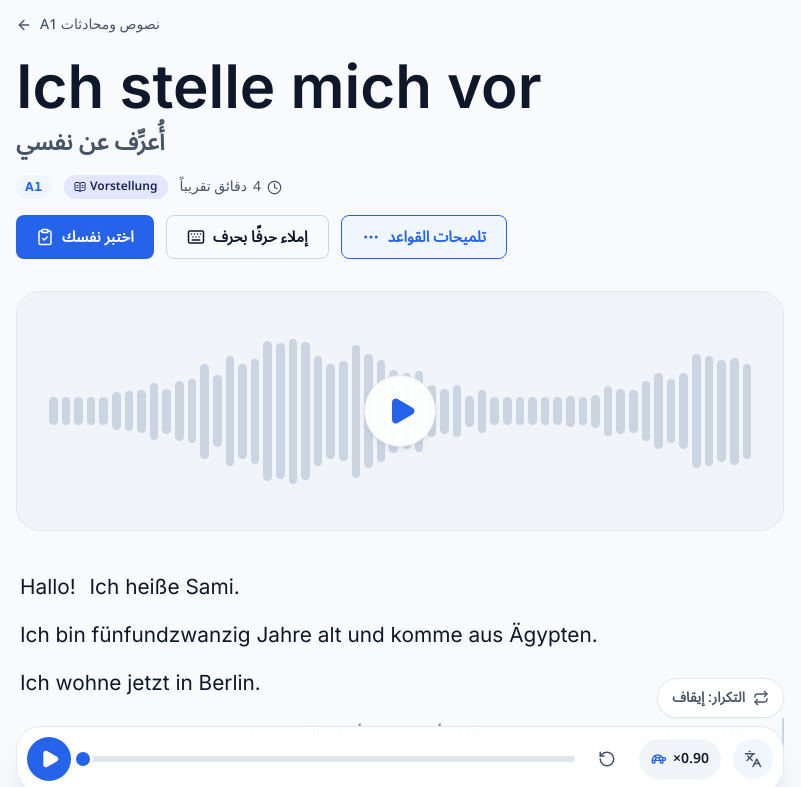
Test case: StoryPage — reading text › reads the first sentence in German when play is pressed, then offers pause
Click the button named "تشغيل". click: [49, 759]
box: 27,737 -> 71,781
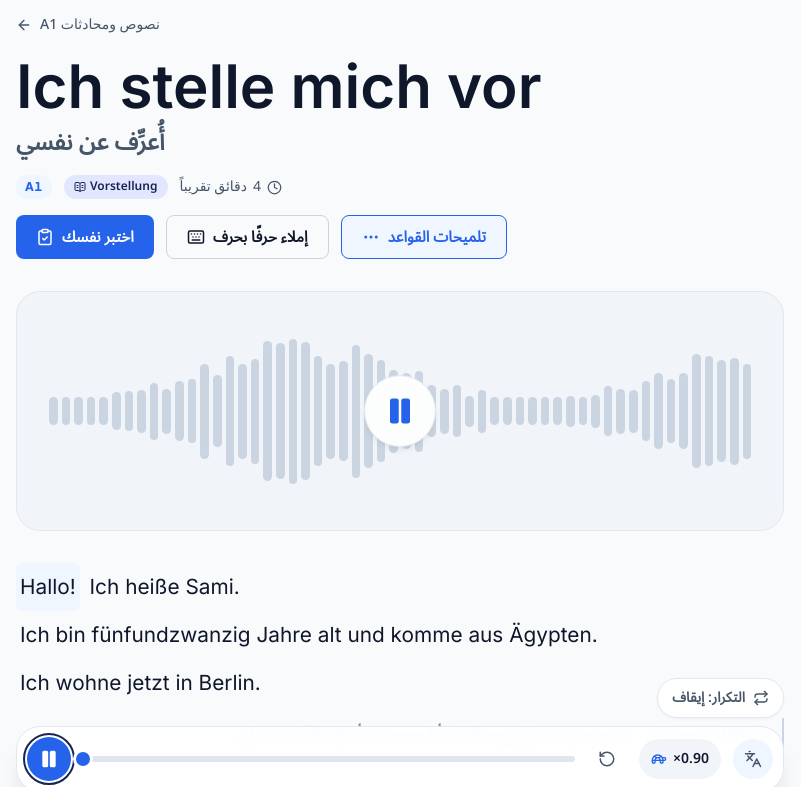
Check: the button "Hallo!" is shown, box 16,563 -> 80,611
Check: the 2nd button named "إيقاف مؤقت" is shown, box 27,737 -> 71,781
